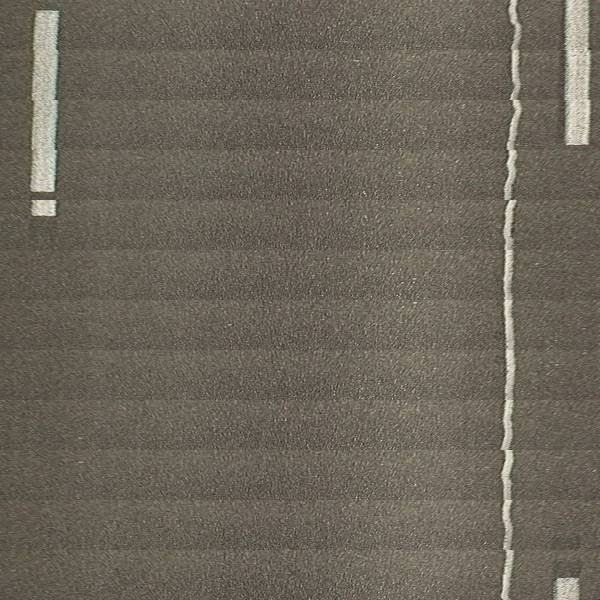road_damage: (499, 3, 519, 596)
